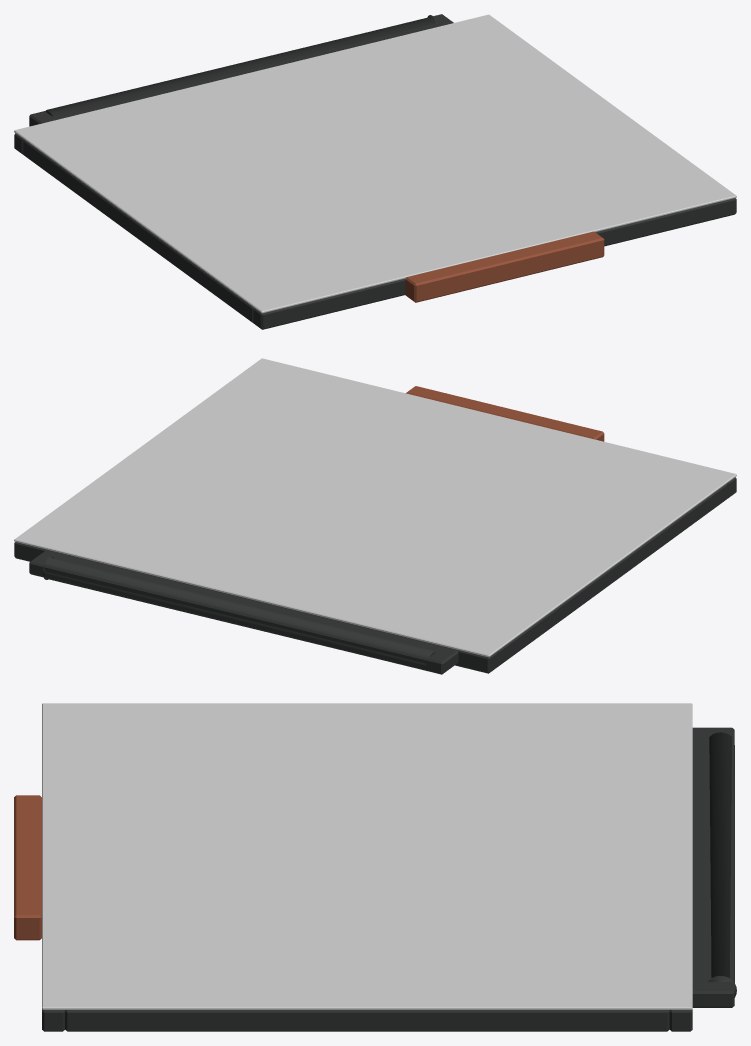
File: single_kitchen_bin_lid.glb
3 views of the same model, one above another, from view 1: azimuth 30°, elevation 25°; view 2: azimuth 150°, elevation 25°; view 3: azimuth 270°, elevation 25° (orthographic). The views are drawn at different scales.
Visible parts, largest first — view 1: single_kitchen_bin_lid; view 2: single_kitchen_bin_lid; view 3: single_kitchen_bin_lid.
Boxes of the visible parts, <box> form: single_kitchen_bin_lid: <box>14,14,736,329</box>; single_kitchen_bin_lid: <box>14,358,736,674</box>; single_kitchen_bin_lid: <box>14,703,736,1031</box>.
Bounding box in the file's own units: 0.31 × 0.014 × 0.311.
